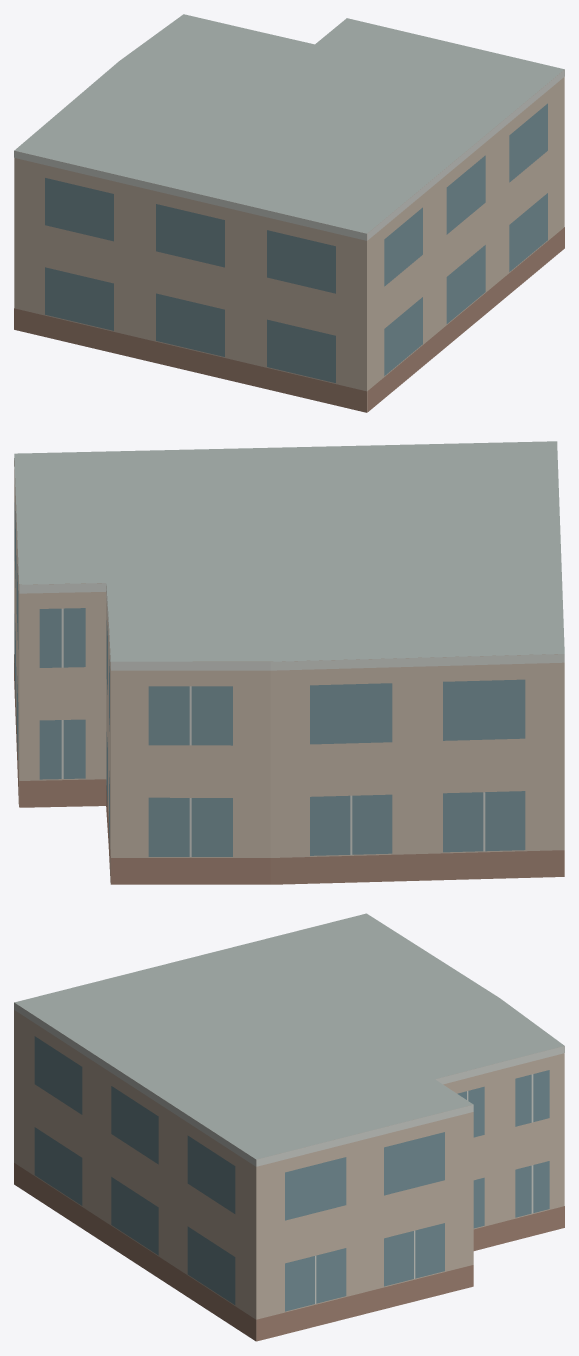
File: survey-upis-32597458.glb
3 views of the same model, one above another, from view 1: azimuth 30°, elevation 25°; view 2: azimuth 150°, elevation 25°; view 3: azimuth 270°, elevation 25° (orthographic). The views are drawn at different scales.
Parts seen in each view (by area): view 1: survey-upis-32597458.tmp; view 2: survey-upis-32597458.tmp; view 3: survey-upis-32597458.tmp.
Boxes of the visible parts, x1,y1,x2,y2 form: survey-upis-32597458.tmp: (14, 14, 564, 412); survey-upis-32597458.tmp: (14, 441, 564, 884); survey-upis-32597458.tmp: (14, 913, 564, 1341).
Bounding box in the file's own units: 17.71 × 6.1 × 16.74.
